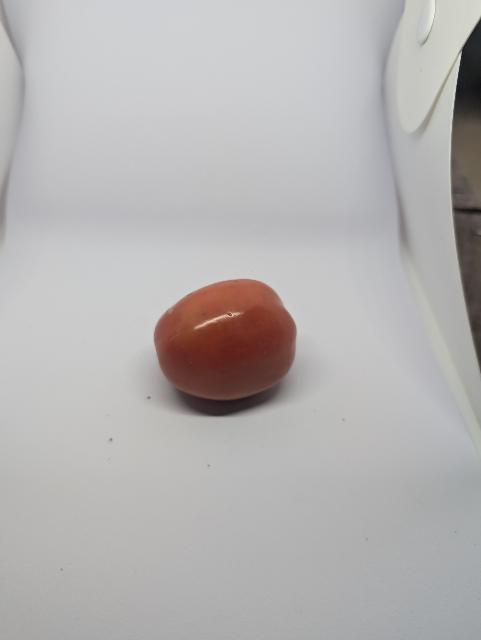red: (149, 270, 301, 407)
